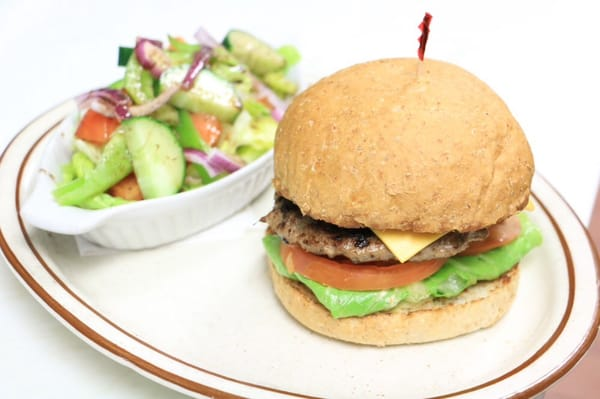soup: (260, 57, 545, 350)
sushi: (17, 35, 278, 252)
